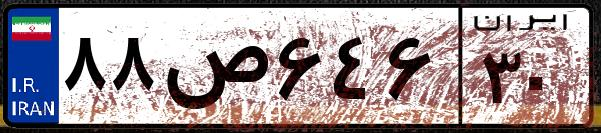0: (525, 38, 570, 115)
3: (475, 38, 525, 113)
4: (330, 28, 385, 110)
6: (270, 28, 330, 110), (385, 28, 445, 110)
8: (57, 26, 110, 100), (110, 28, 158, 98)
ص: (158, 20, 270, 120)
